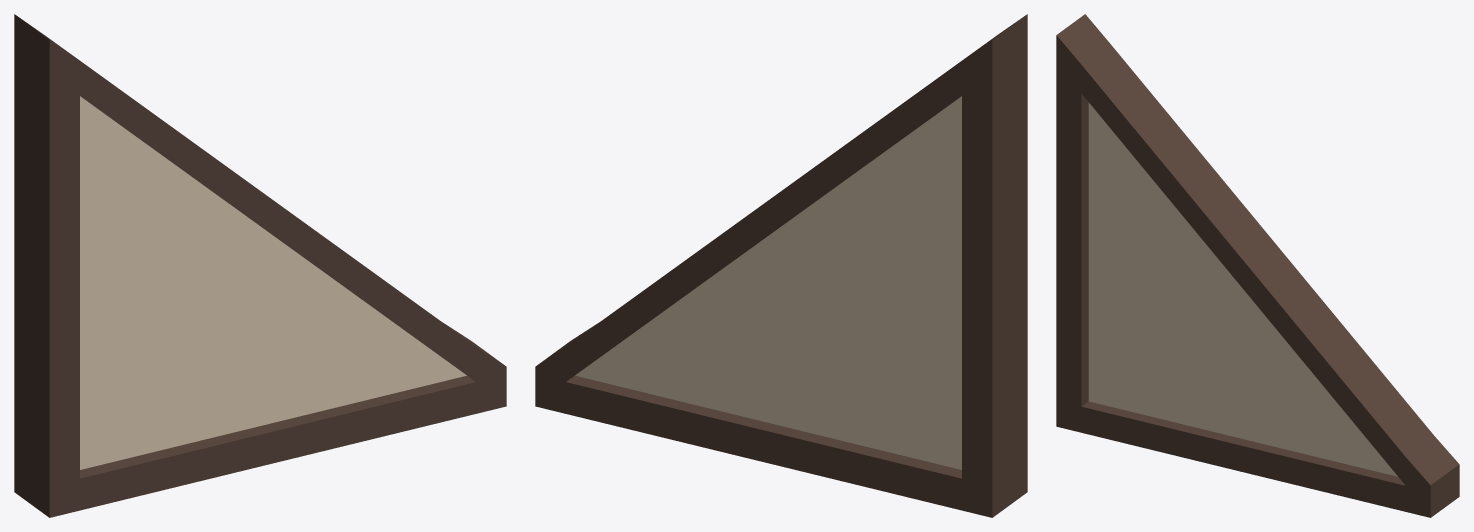
Rendered from fantasy_wall_3_slant.fbx.
The picture shows the model from 3 angles, left to right: view 1: azimuth 30°, elevation 25°; view 2: azimuth 150°, elevation 25°; view 3: azimuth 330°, elevation 25°; orthographic projection. The views are drawn at different scales.
Parts seen in each view (by area): view 1: Cube.028; view 2: Cube.028; view 3: Cube.028.
Part boxes in pixels (x1,y1,x2,y2): Cube.028: [14, 14, 506, 517]; Cube.028: [535, 14, 1027, 517]; Cube.028: [1056, 14, 1459, 517].
Bounding box in the file's own units: 300 × 300 × 40.
